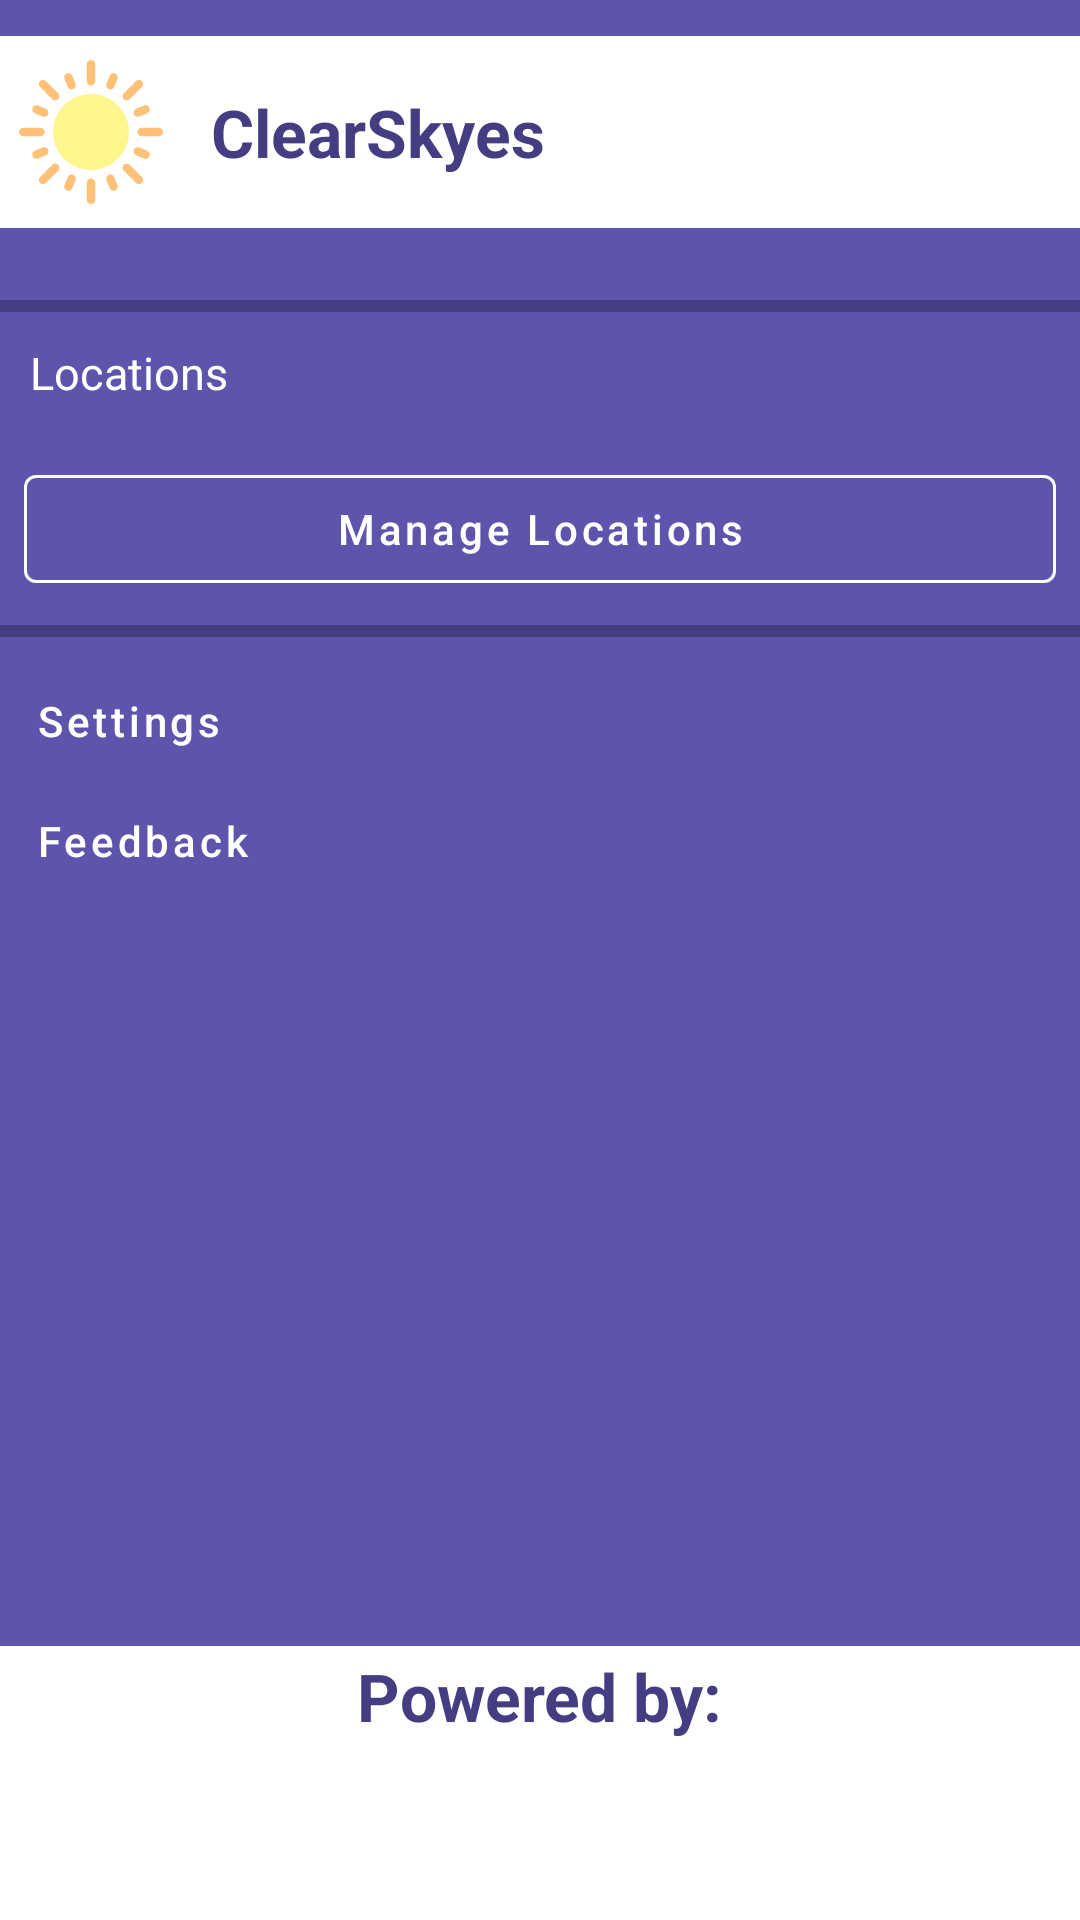

Named icons in this screenshot (1080x1920) and their centers, [x,y]:
avd sunny: [91,132]
